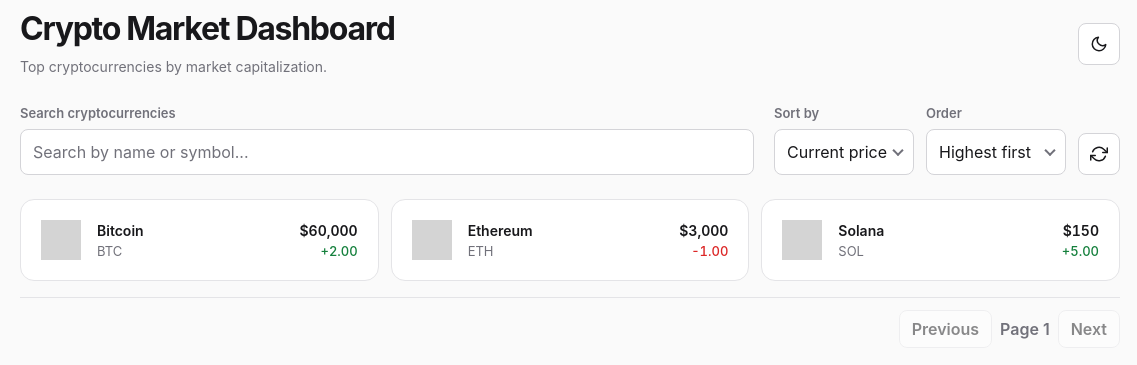
Test: Crypto dashboard › searches coins by symbol regardless of case
Type "BTC" into the search field labelled "Search cryptocurrencies" at (387, 152), box [20,129,754,175]
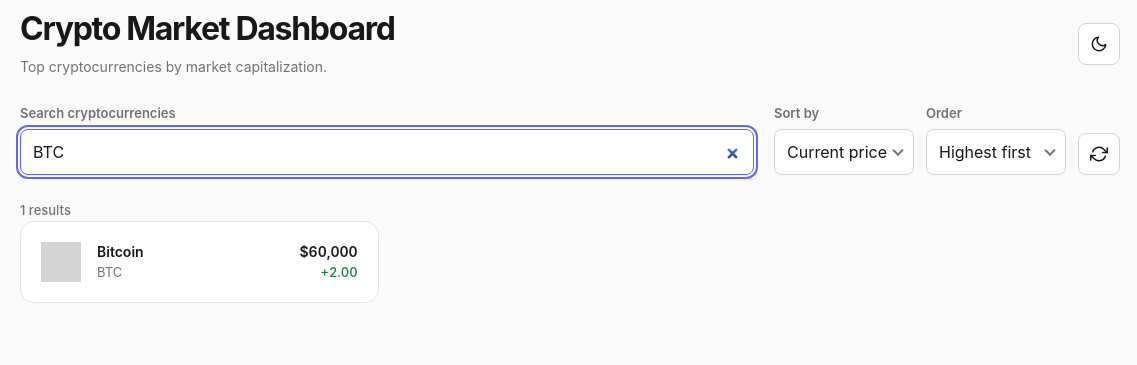
Check: the text "Bitcoin" is shown, box [97,243,144,260]
Check: the button "Ethereum" is gone
